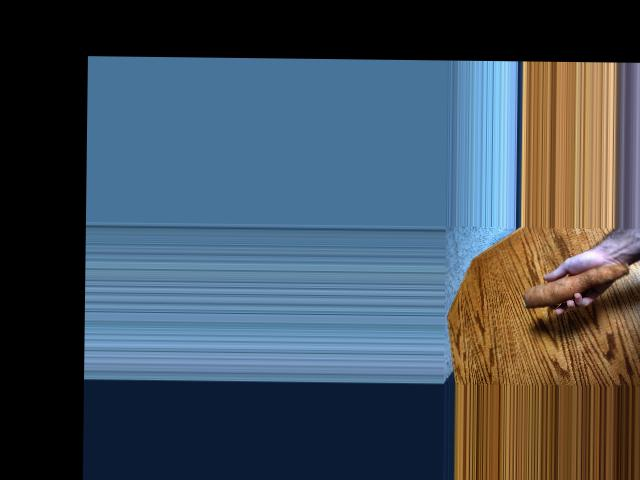sweet_potato: (523, 258, 627, 312)
